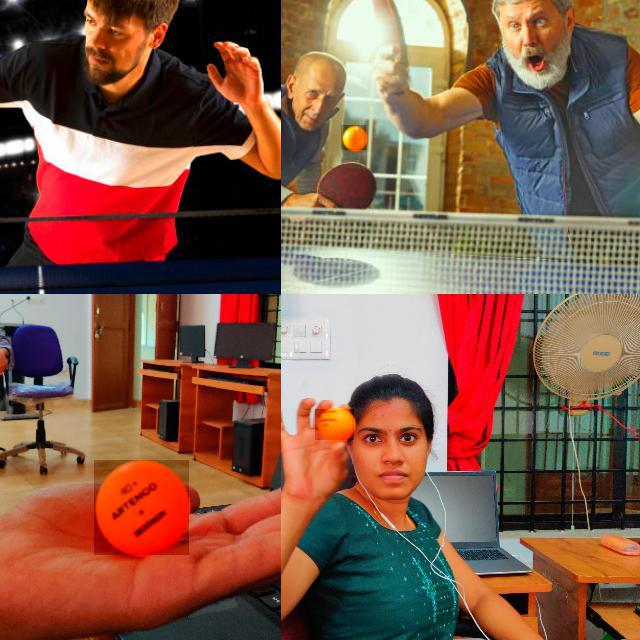ping-pong-ball: (94, 460, 190, 556), (315, 409, 355, 441), (341, 125, 367, 151)
